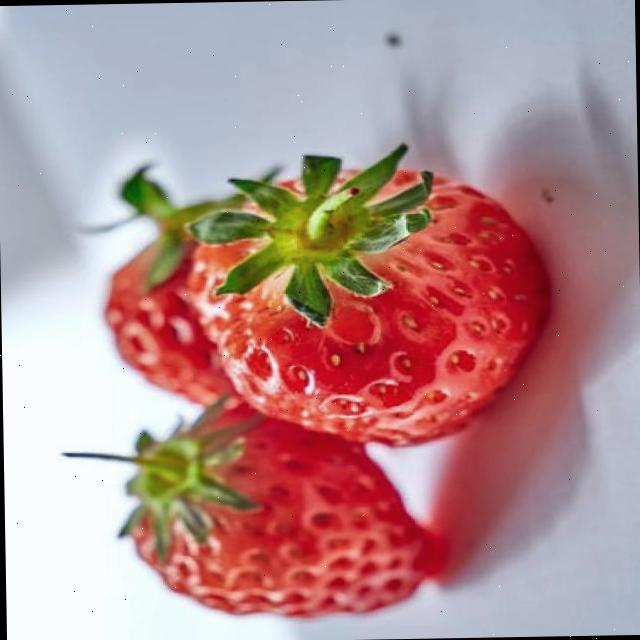strawberry: (186, 166, 548, 449), (128, 401, 450, 622)
